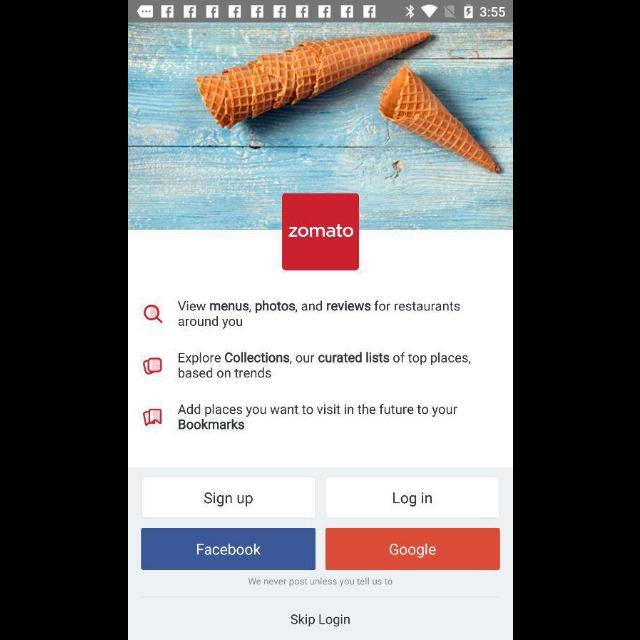icon: (142, 408, 162, 426), (144, 304, 162, 324), (142, 358, 162, 374)
image: (128, 24, 512, 230), (282, 193, 358, 271)
text: (177, 300, 459, 330), (178, 352, 470, 378), (178, 404, 458, 430), (248, 577, 392, 587), (290, 614, 350, 626)
textbutton: (325, 528, 499, 570), (141, 528, 315, 570), (326, 477, 498, 518), (142, 478, 314, 518)
uppertaskbar: (128, 1, 512, 23)
